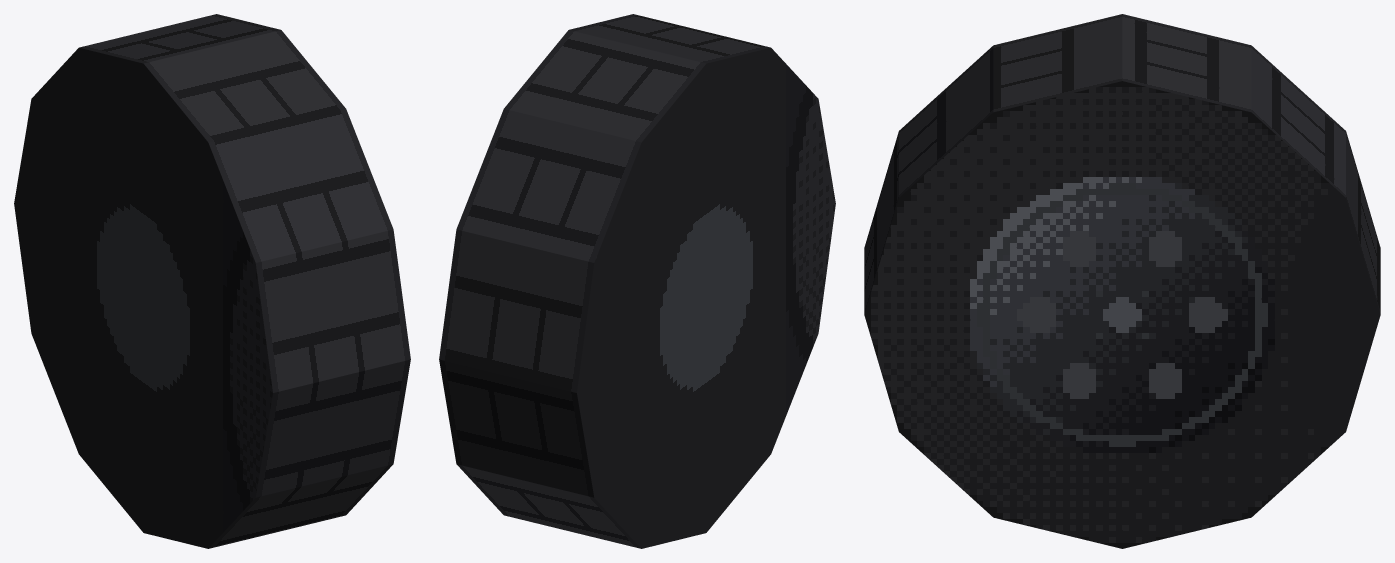
File: wheel_steel.glb
The picture shows the model from 3 angles, left to right: view 1: azimuth 30°, elevation 25°; view 2: azimuth 150°, elevation 25°; view 3: azimuth 270°, elevation 25°; orthographic projection.
Parts seen in each view (by area): view 1: wheel_steel; view 2: wheel_steel; view 3: wheel_steel.
Part boxes in pixels (bbox=[...]): wheel_steel: bbox=[14, 14, 410, 548]; wheel_steel: bbox=[439, 14, 835, 548]; wheel_steel: bbox=[864, 14, 1380, 548].
Size of the model in its own units: 0.195 by 0.6345 by 0.6345.
Materials: 1 (1 with a texture image).
